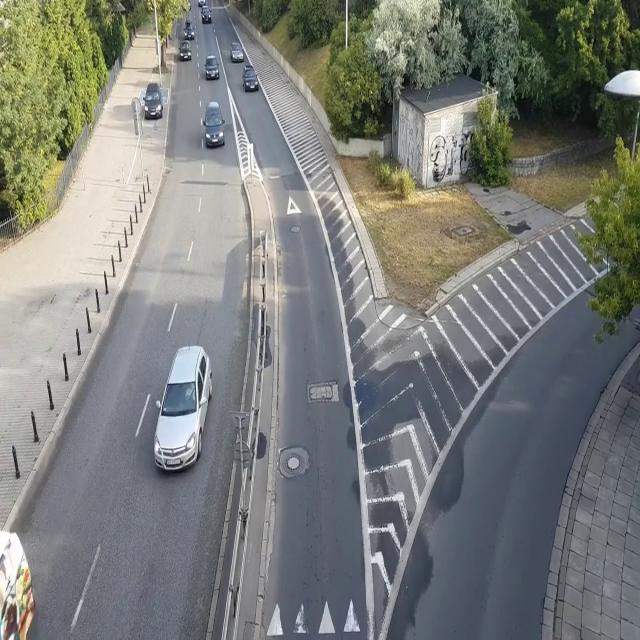car: (152, 344, 214, 474), (202, 100, 225, 149), (143, 83, 163, 119), (241, 64, 259, 92), (204, 56, 220, 80), (230, 42, 244, 64), (178, 39, 192, 61), (183, 22, 195, 39), (201, 6, 212, 24), (183, 1, 191, 10), (198, 0, 206, 6)
van: (0, 528, 36, 640)
